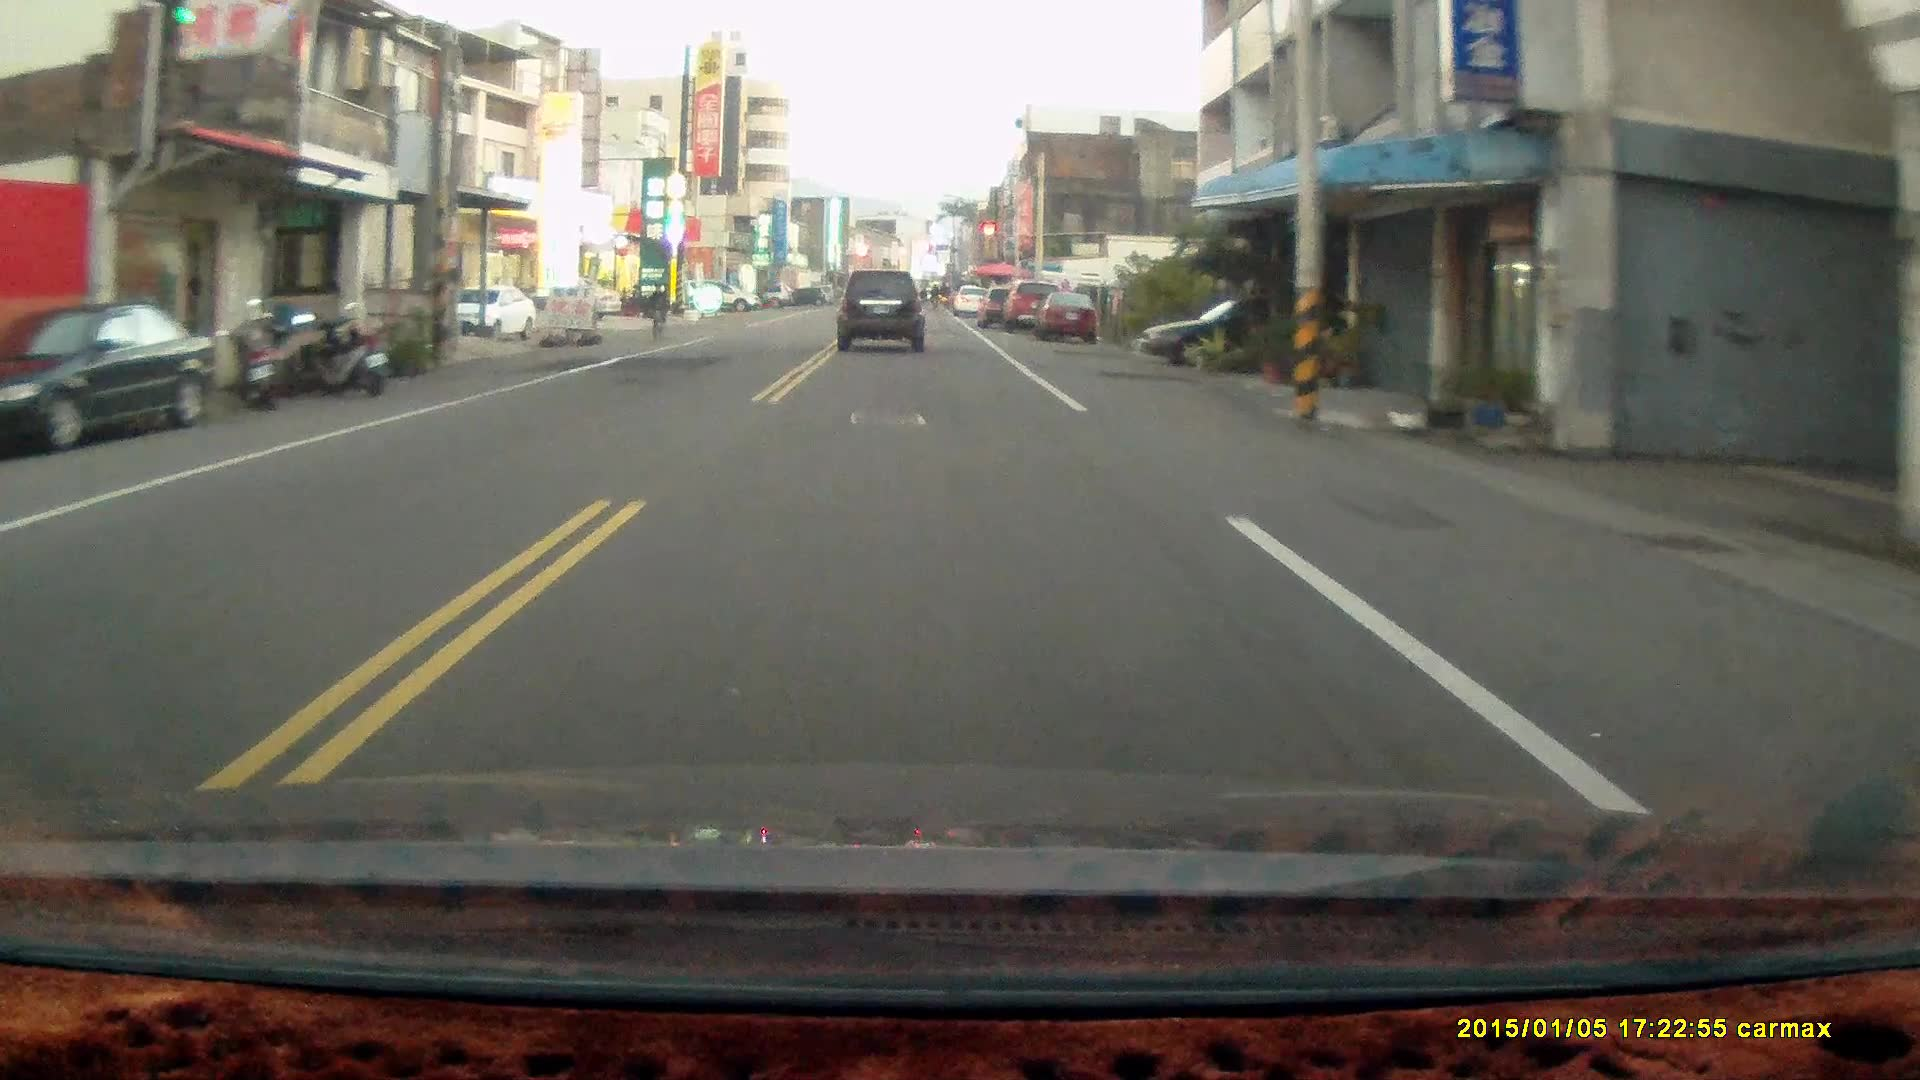rider: (643, 281, 669, 346)
vehicle: (1, 302, 226, 457), (1136, 302, 1326, 368), (837, 267, 929, 355), (445, 286, 538, 342), (1032, 290, 1099, 343)
